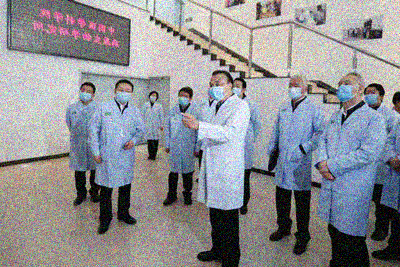with_mask: (336, 79, 355, 103), (207, 80, 225, 103), (363, 89, 381, 107), (287, 81, 303, 101), (114, 87, 131, 104), (176, 93, 190, 108), (78, 88, 92, 103), (230, 83, 242, 99), (148, 93, 156, 104)
